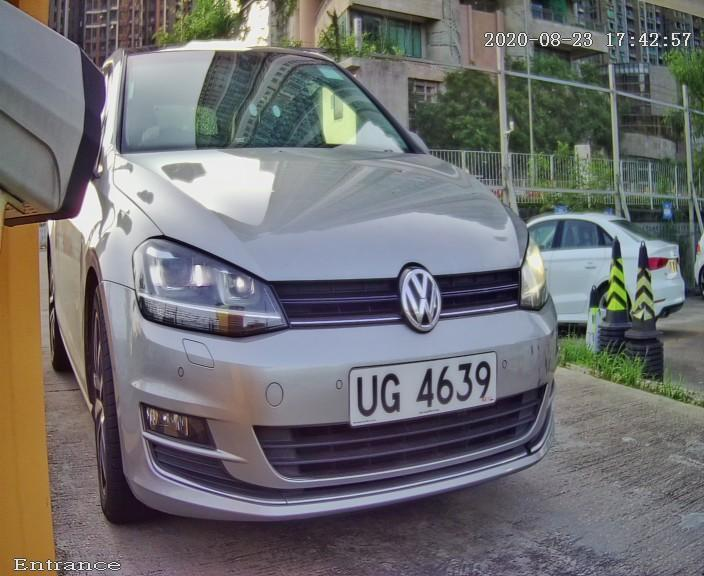Car: (19, 11, 623, 556)
License Plate: (313, 332, 529, 449)
